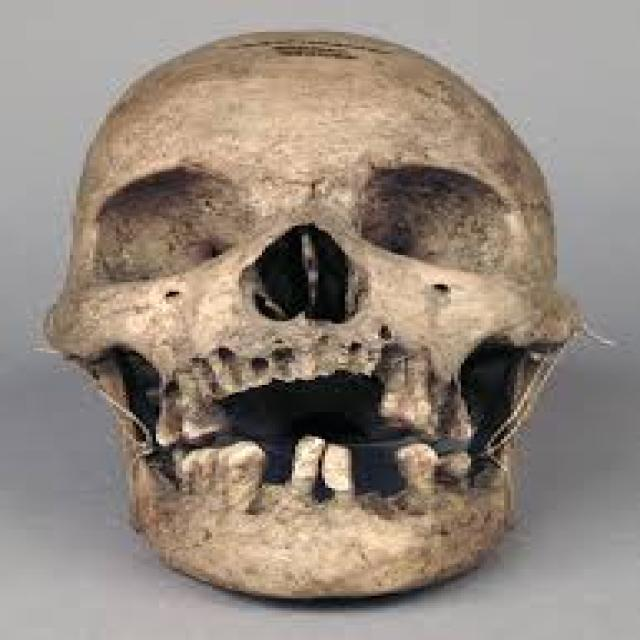skull: (24, 9, 611, 614)
